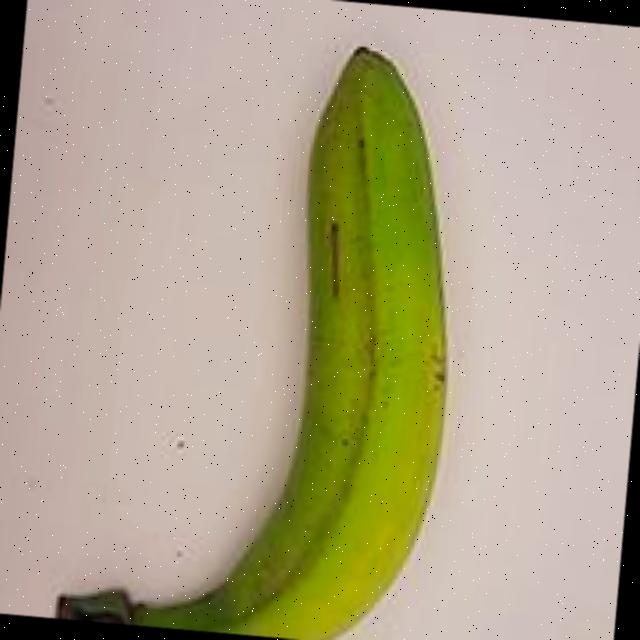Unripe: (35, 1, 498, 640)
